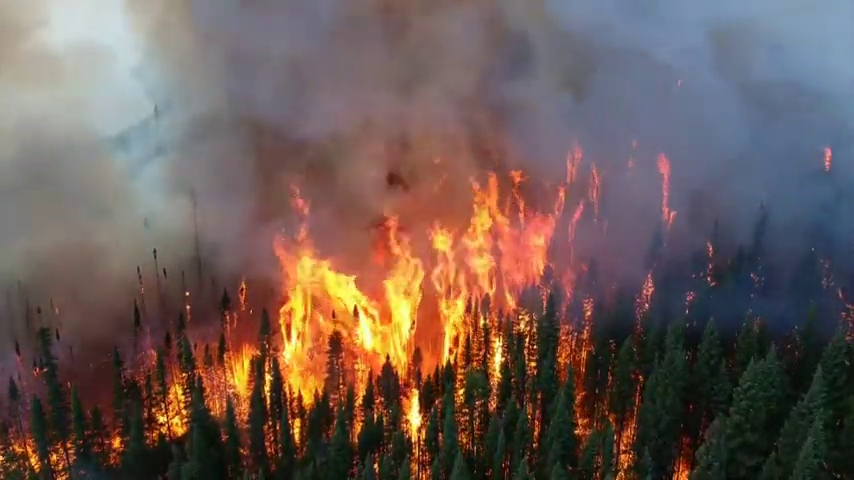forest_fire: (274, 216, 424, 393), (425, 175, 564, 358), (201, 346, 256, 419), (150, 380, 189, 438), (0, 418, 40, 473), (488, 335, 504, 407), (557, 324, 576, 380), (406, 387, 422, 440), (672, 458, 687, 479), (107, 434, 123, 449), (48, 447, 62, 462), (456, 387, 461, 396)
